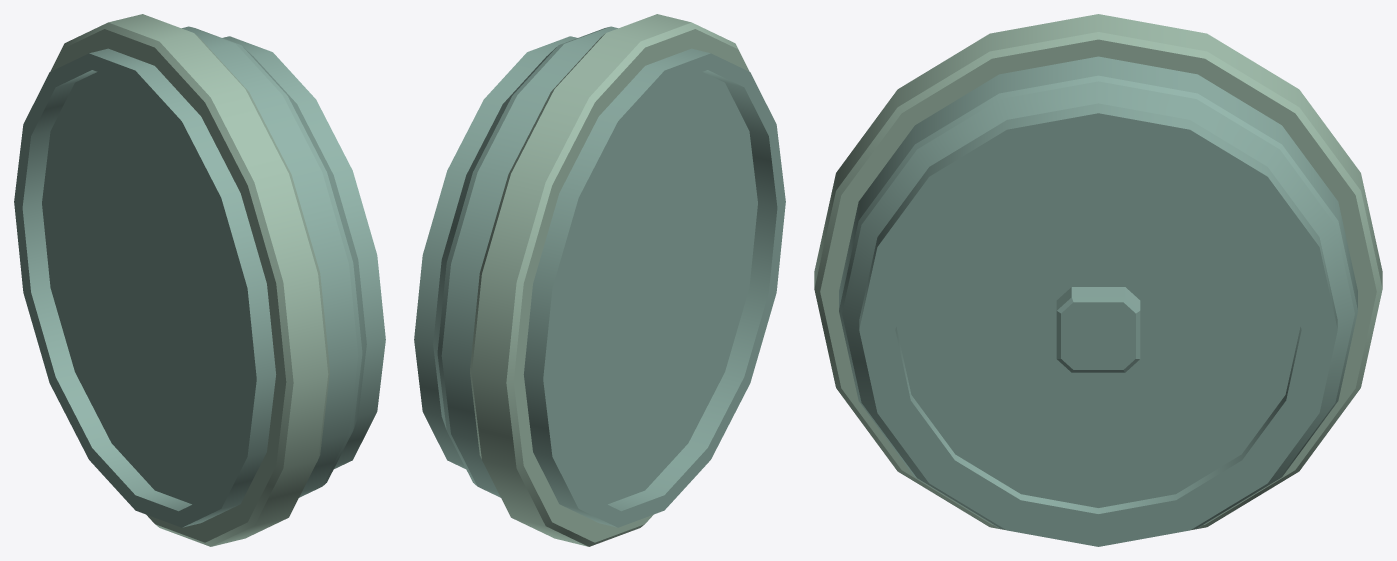
File: PipeLarge_Connector_EndCap.fbx
The picture shows the model from 3 angles, left to right: view 1: azimuth 30°, elevation 25°; view 2: azimuth 150°, elevation 25°; view 3: azimuth 270°, elevation 25°; orthographic projection. The views are drawn at different scales.
Visible parts, largest first — view 1: PipeLarge_Connector_EndCap.001; view 2: PipeLarge_Connector_EndCap.001; view 3: PipeLarge_Connector_EndCap.001.
Boxes of the visible parts, box(x1,y1,x2,y2) form: PipeLarge_Connector_EndCap.001: box(14, 14, 385, 546); PipeLarge_Connector_EndCap.001: box(414, 14, 785, 546); PipeLarge_Connector_EndCap.001: box(814, 14, 1382, 546).
Bounding box in the file's own units: 0.0768 × 0.2392 × 0.2392.
